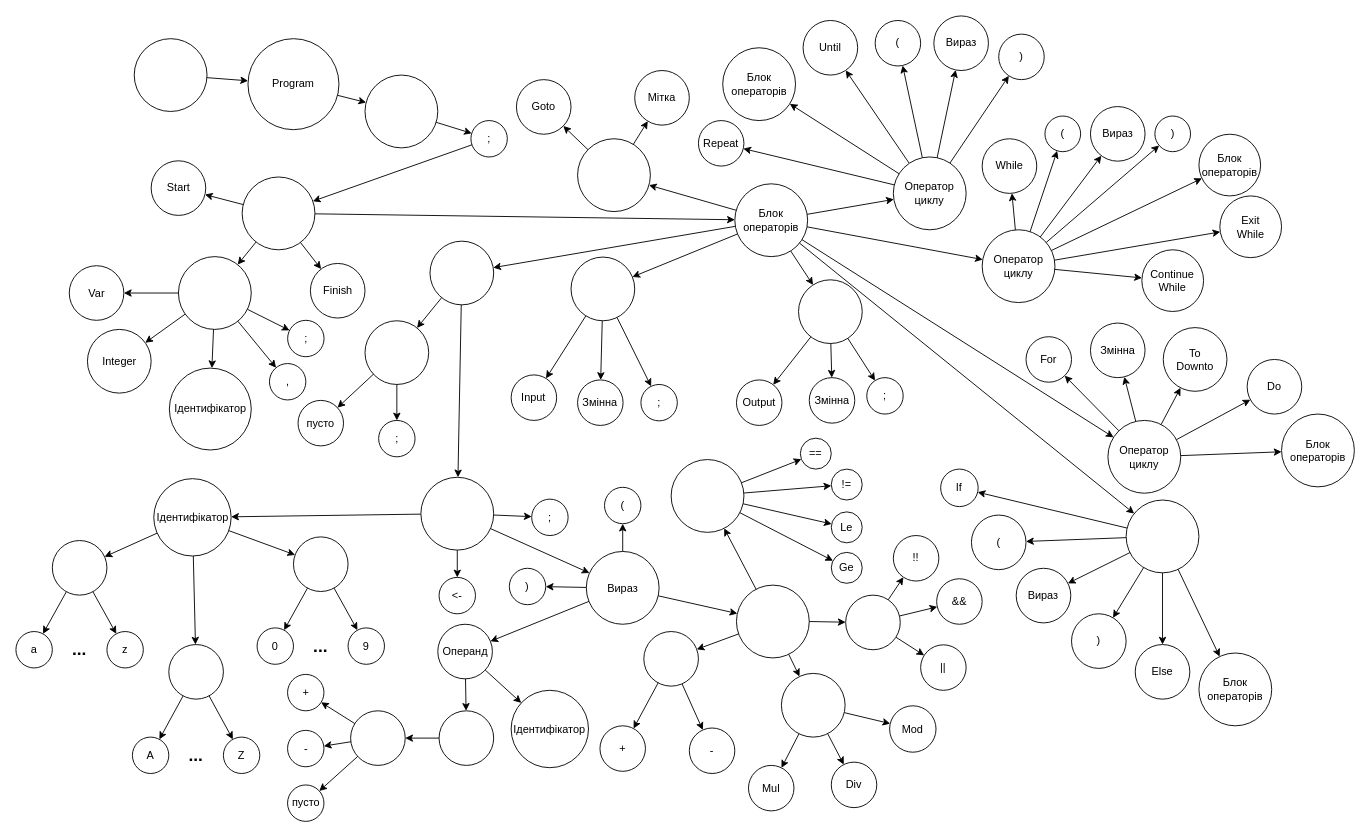
The diagram is 1370 pixels wide and 838 high, and some of its shapes have lost their labels. The shapes that lost their labels are listed below. From the top down, each one's centre as x and y in pixels, then its label:
At (x=170, y=74): "Основна програма".
At (x=401, y=111): "Ім'я програми".
At (x=613, y=175): "Оператор переходу".
At (x=278, y=213): "Блок коду".
At (x=214, y=292): "Блок змінних".
At (x=461, y=272): "Простий оператор".
At (x=602, y=288): "Оператор вводу".
At (x=830, y=311): "Оператор виводу".
At (x=396, y=352): "Порожній оператор".
At (x=457, y=513): "Присвоєння".
At (x=707, y=495): "Операції порівняння".
At (x=1162, y=536): "Оператор умови".
At (x=79, y=567): "Мала буква".
At (x=320, y=564): "Цифра".
At (x=772, y=621): "Операції".
At (x=872, y=622): "Логічна операція".
At (x=195, y=671): "Велика буква".
At (x=670, y=658): "Адитивна операція".
At (x=813, y=704): "Мультиплі кативна операція".
At (x=377, y=737): "Знак".
At (x=466, y=737): "Константа".
